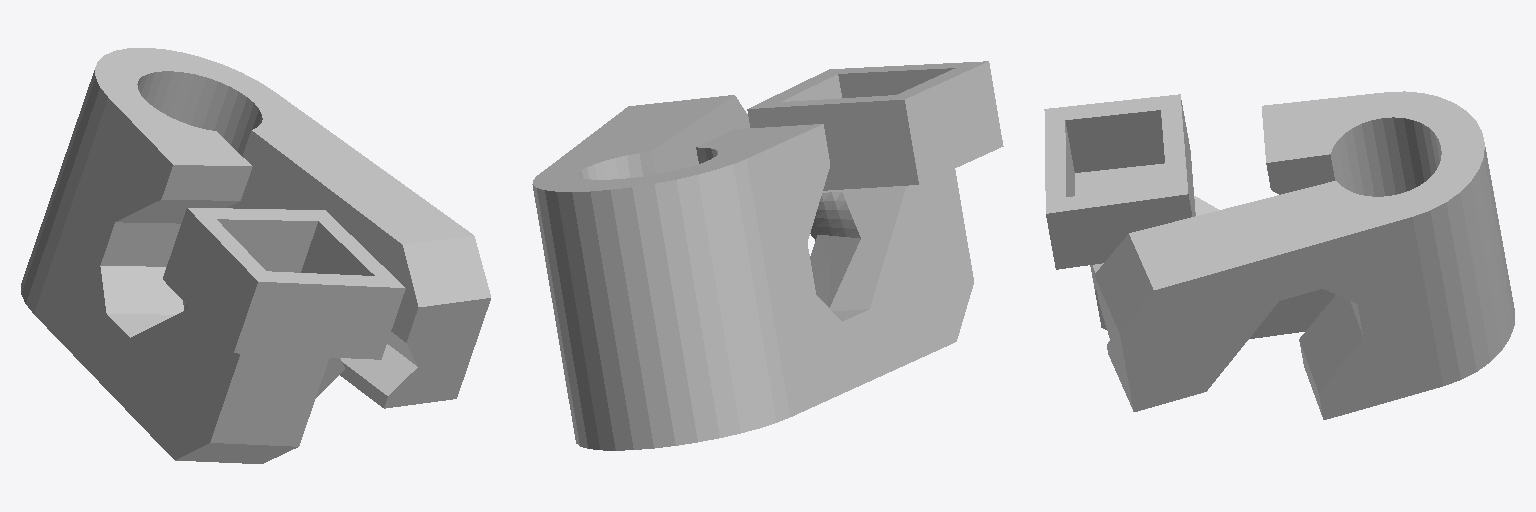
The robot description file, URDF, robot "bar_clamp":
<robot name="bar_clamp">
  <link name="world" />
  <link name="bar_clamp">
    <visual>
       <geometry>
	  <mesh filename="package://dex-net/urdf/bar_clamp.dae"/>
	</geometry>
    </visual>
    <collision>
       <geometry>
	  <mesh filename="package://dex-net/urdf/bar_clamp.dae"/>
	</geometry>
    </collision>
	<inertial>
		<mass value="0.5"/>
		<inertia ixx="1" iyy="1" izz="1" ixy="0.0" ixz="0.0" iyz="0.0"/>
	</inertial>
  </link>

  <joint name="joint1" type="floating">
    <parent link="world"/>
    <child link="bar_clamp"/>
  </joint>
</robot>

--- Facts derived from the render (not from the file) ---
Views: 3 orthographic renders of the robot side by side, from view 1: azimuth 30°, elevation 25°; view 2: azimuth 150°, elevation 25°; view 3: azimuth 270°, elevation 25°.
Model bar_clamp with 2 links and 1 joints (1 floating), rooted at world, posed every joint at zero.
Links seen in each view (by area): view 1: bar_clamp; view 2: bar_clamp; view 3: bar_clamp.
Link boxes in pixels (x1,y1,x2,y2): bar_clamp: (21,48,490,463); bar_clamp: (532,61,1003,450); bar_clamp: (1044,91,1514,419).
Size in the robot's own frame: 0.1118 by 0.1659 by 0.1029 metres.
Meshes: 1 distinct files referenced, 1 mesh visuals loaded (1 Collada DAE).